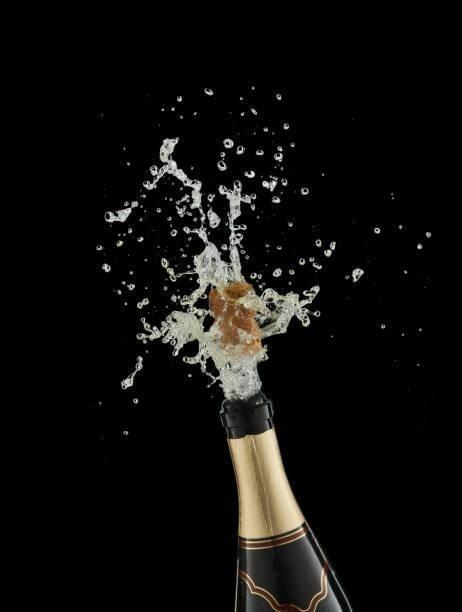bottle-glass: (213, 390, 393, 612)
